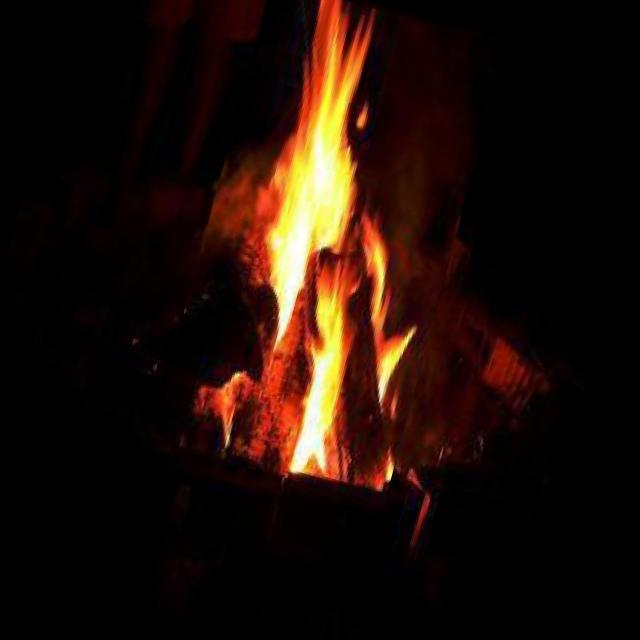fire: (149, 0, 507, 504)
